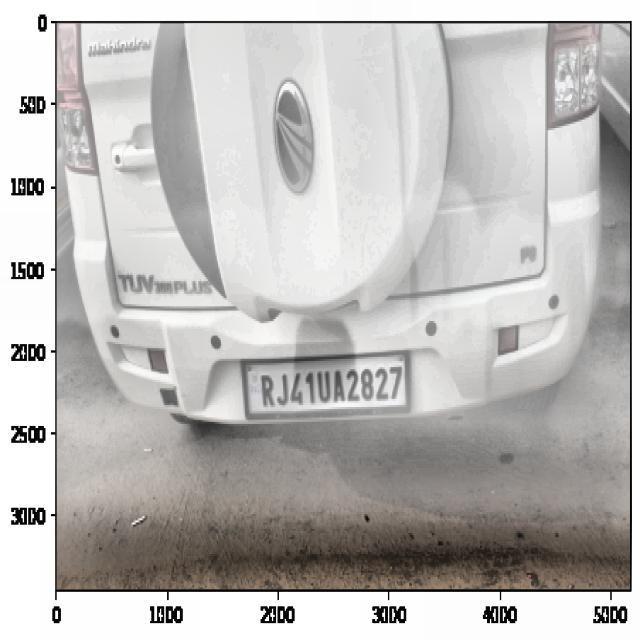license_plate: (256, 360, 409, 414)
